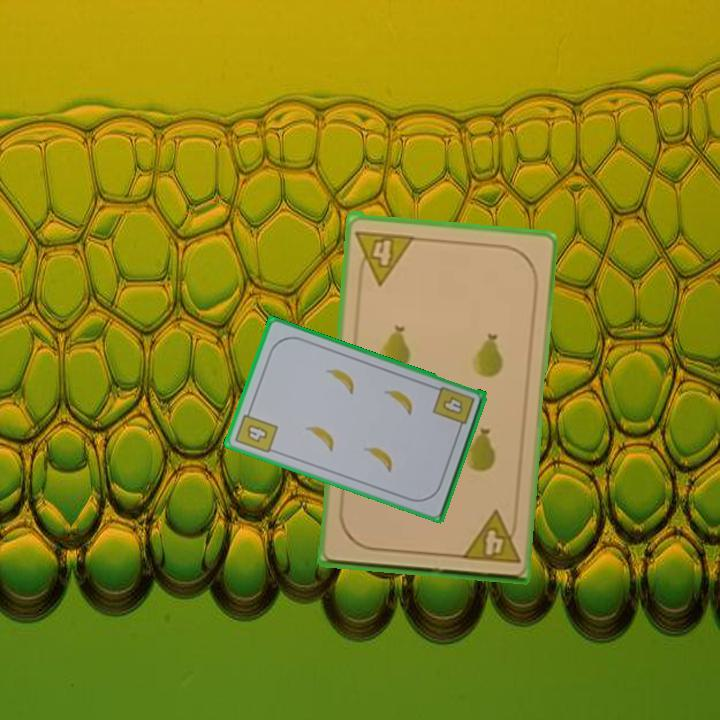4b: (232, 404, 281, 456), (429, 383, 477, 434)
4p: (352, 226, 418, 286), (457, 507, 523, 567)
